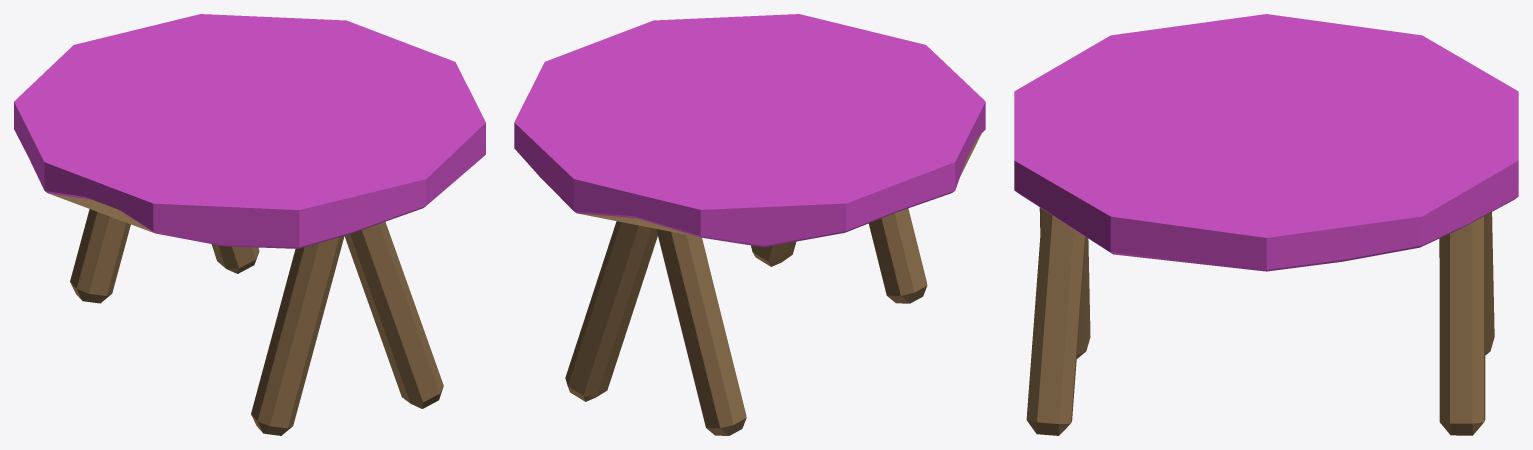
The model's file is Table.fbx.
3 views of the same model, side by side, from view 1: azimuth 30°, elevation 25°; view 2: azimuth 150°, elevation 25°; view 3: azimuth 270°, elevation 25° (orthographic). The views are drawn at different scales.
Parts seen in each view (by area): view 1: pCylinder1, pasted__pCube2 (×2), pCube2, pasted__pasted__pCube2; view 2: pCylinder1, pasted__pCube2 (×2), pasted__pasted__pCube2, pCube2; view 3: pCylinder1, pasted__pCube2 (×2), pCube2, pasted__pasted__pCube2.
Part boxes in pixels (bbox=[...]): pCylinder1: bbox=[14, 14, 485, 248]; pasted__pCube2 (×2): bbox=[211, 236, 344, 435]; pCube2: bbox=[344, 221, 443, 408]; pasted__pasted__pCube2: bbox=[70, 209, 130, 303]; pCylinder1: bbox=[514, 14, 985, 247]; pasted__pCube2 (×2): bbox=[565, 208, 927, 401]; pasted__pasted__pCube2: bbox=[656, 229, 746, 435]; pCube2: bbox=[751, 241, 796, 266]; pCylinder1: bbox=[1014, 14, 1518, 271]; pasted__pCube2 (×2): bbox=[1039, 207, 1485, 435]; pCube2: bbox=[1026, 209, 1085, 435]; pasted__pasted__pCube2: bbox=[1485, 212, 1494, 355].
Size of the model in its own units: 11.86 by 6.63 by 11.28.
